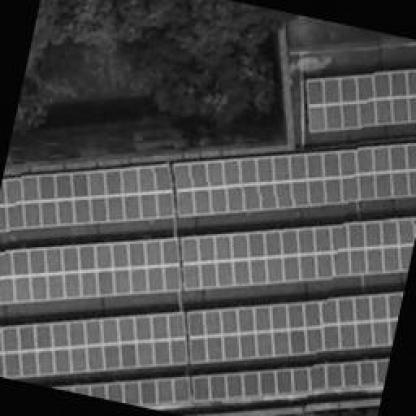solar-pv-panel: (174, 144, 416, 217), (180, 218, 416, 289), (187, 292, 403, 364), (0, 312, 187, 378), (0, 238, 180, 306), (0, 164, 172, 231), (192, 358, 389, 400), (305, 68, 416, 132), (53, 376, 189, 405)
